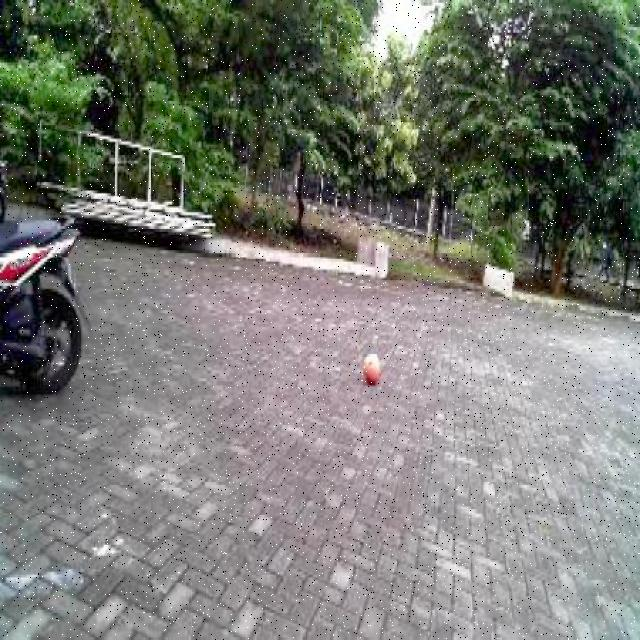buoy: (362, 342, 383, 385)
